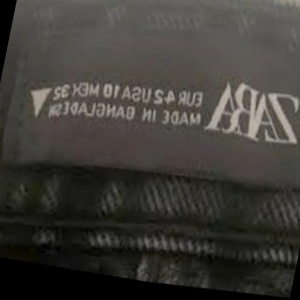zara: (118, 8, 300, 145)
